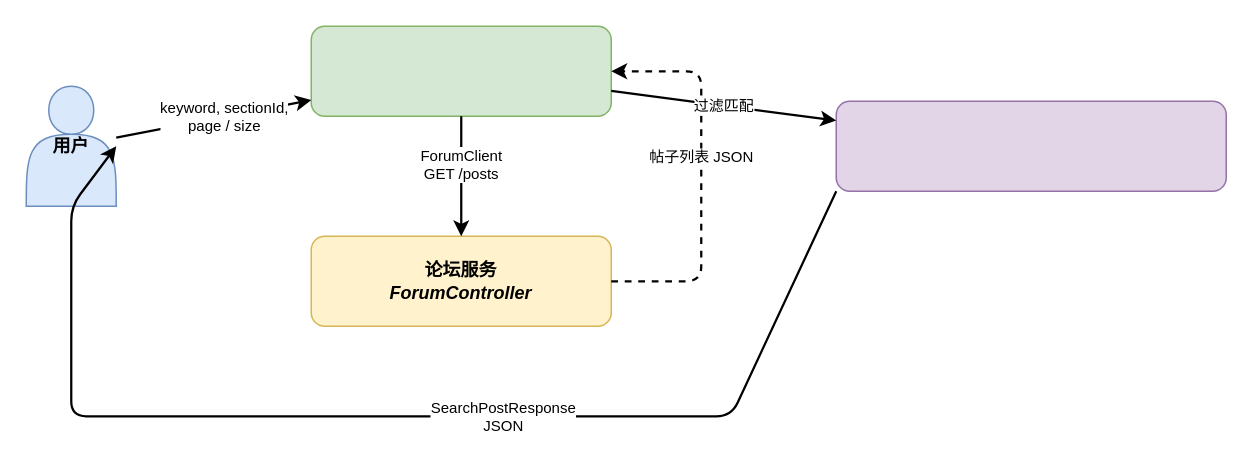
Some shapes in this 1253 by 461 pixel diagram are drawn without their labels. Each missing label, with the centre of its shape:
"匹配结果集 过滤匹配: 标题/摘要/作者/分区" goes at point 1030,145.
"搜索服务 SearchController" goes at point 460,70.
